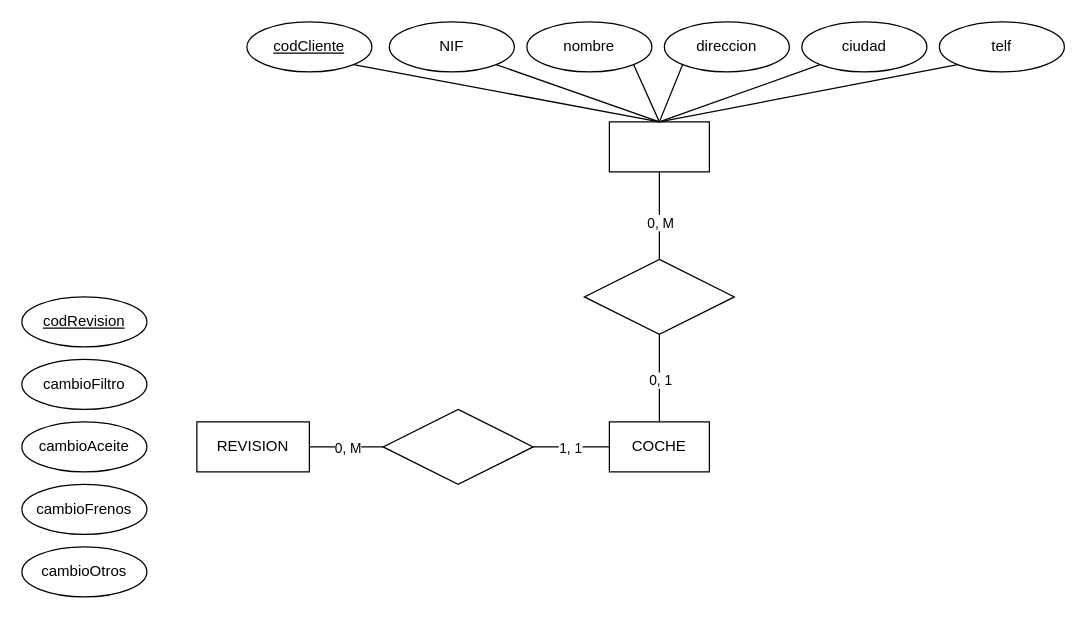
This 1086x619 diagram has some shape labels left out. Each missing label, with the centre of its shape:
CLIENTE: point 658,146
Comprar: point 658,296
Pasar: point 457,446
